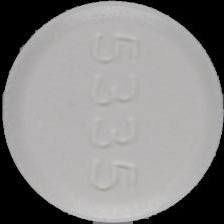0591-5335: (0, 0, 224, 224)
